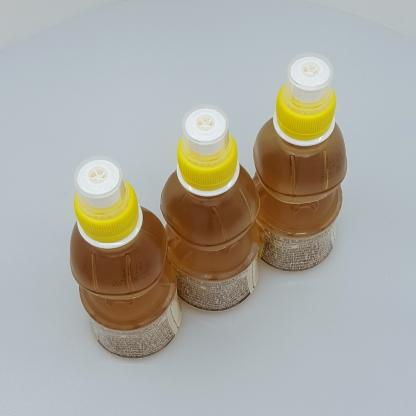--------220ML: (69, 155, 183, 359), (251, 52, 347, 272), (160, 103, 260, 313)
